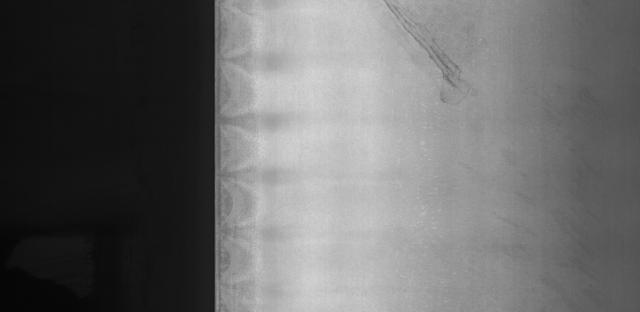water_spot: (368, 3, 488, 116)
